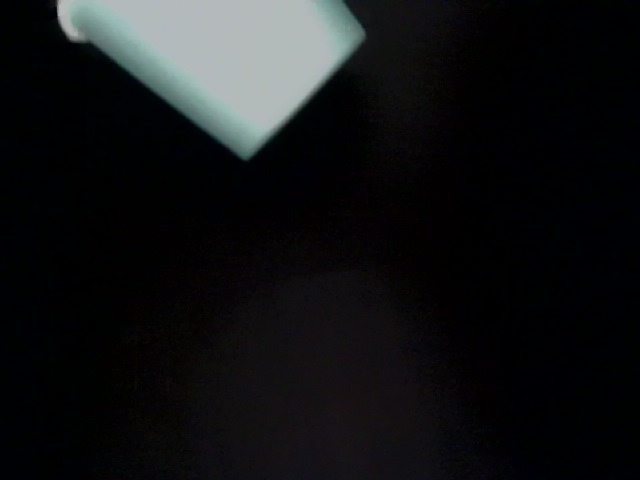CYLJ: (154, 1, 276, 57)
